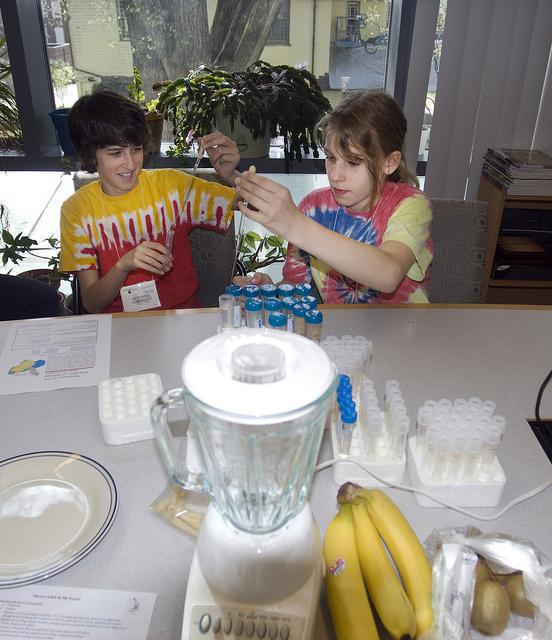Matera: (161, 56, 318, 167), (199, 225, 293, 331), (0, 221, 64, 327), (61, 238, 131, 326)
